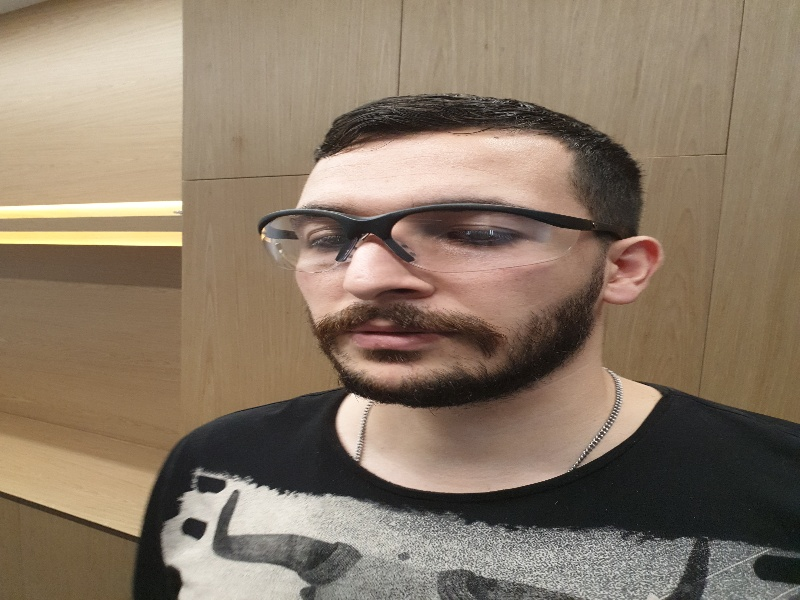Gozluk: (257, 205, 611, 273)
